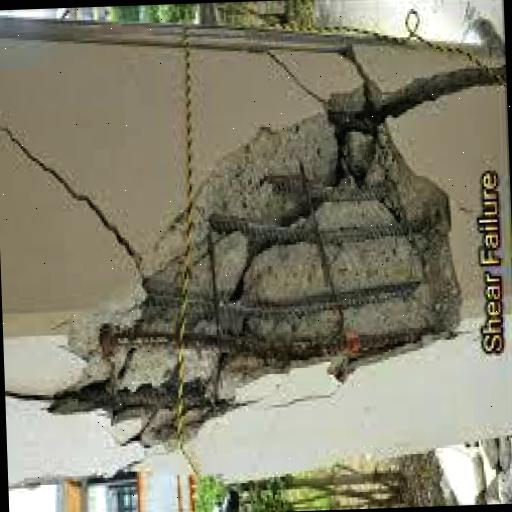spalling: (42, 59, 506, 451), (0, 114, 138, 266), (261, 48, 326, 107)
